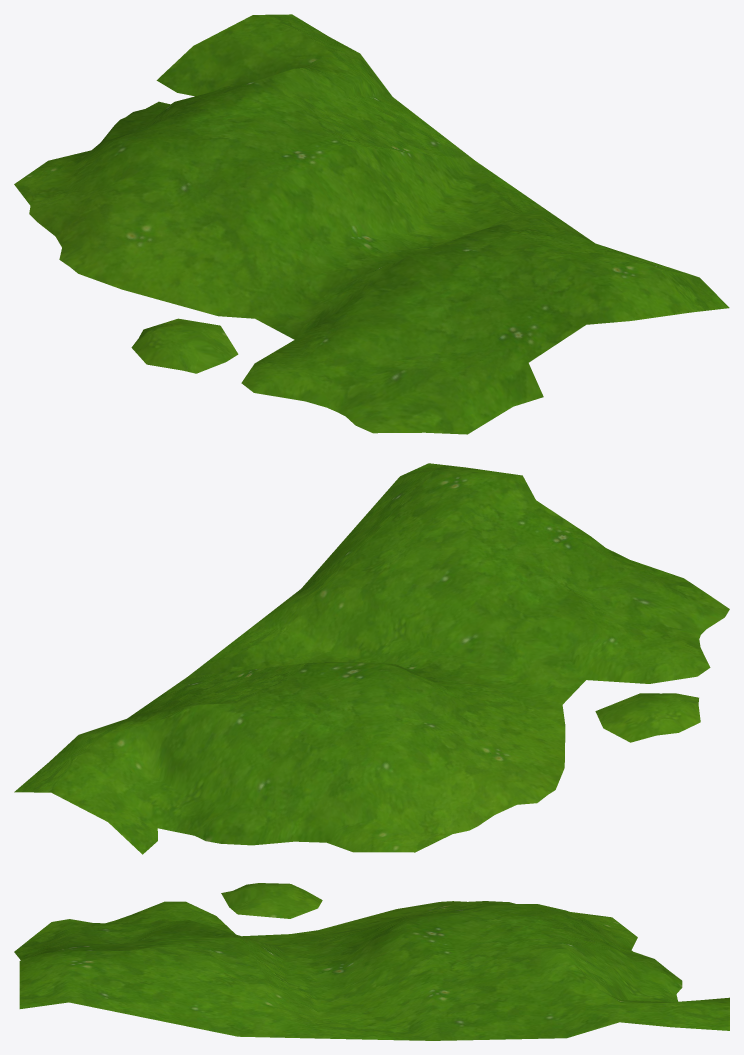
Rendered from Amazon04_Terrain04.FBX.
The picture shows the model from 3 angles, top to bottom: view 1: azimuth 30°, elevation 25°; view 2: azimuth 150°, elevation 25°; view 3: azimuth 270°, elevation 25°; orthographic projection. The views are drawn at different scales.
Parts seen in each view (by area): view 1: Amazon04_Terrain04; view 2: Amazon04_Terrain04; view 3: Amazon04_Terrain04.
Boxes of the visible parts, <box> form: Amazon04_Terrain04: <box>14,14,729,434</box>; Amazon04_Terrain04: <box>14,463,729,854</box>; Amazon04_Terrain04: <box>14,883,729,1040</box>.
Size of the model in its own units: 8604 by 1650 by 15108.
